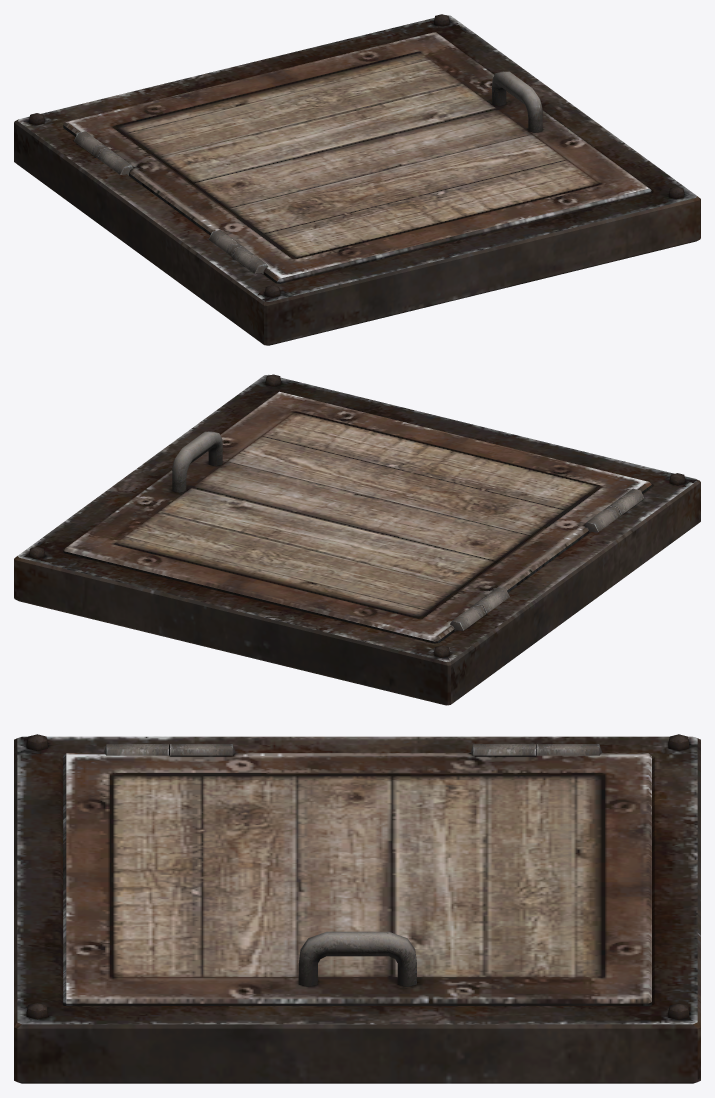
Rendered from hatch_ceiling.dae.
3 views of the same model, one above another, from view 1: azimuth 30°, elevation 25°; view 2: azimuth 150°, elevation 25°; view 3: azimuth 270°, elevation 25° (orthographic). The views are drawn at different scales.
Visible parts, largest first — view 1: door, frame; view 2: door, frame; view 3: door, frame.
Part boxes in pixels (x1,y1,x2,y2): door: (63,32,651,283); frame: (14,14,700,345); door: (63,391,651,643); frame: (14,374,700,705); door: (63,744,651,1005); frame: (14,734,700,1083).
Bounding box in the file's own units: 2.1 × 0.3771 × 2.1.
